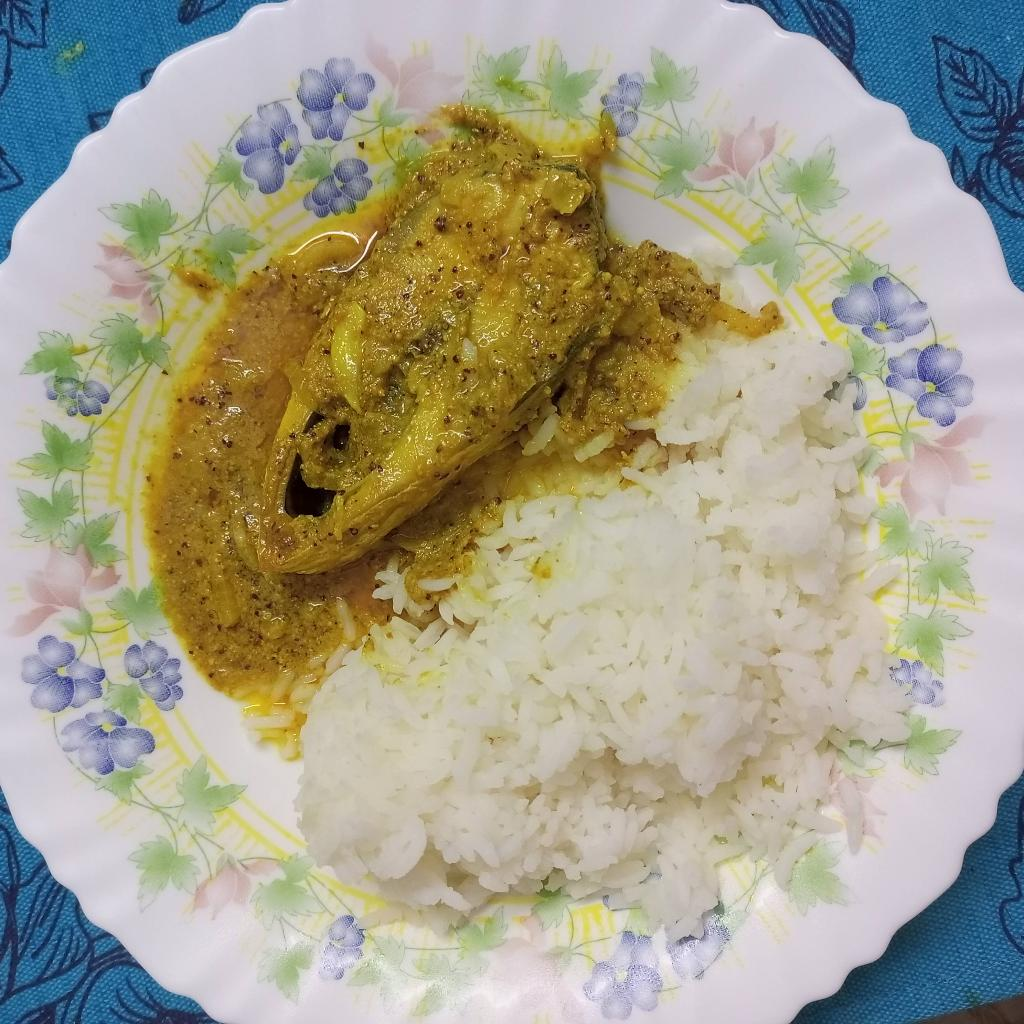fish: (251, 105, 630, 575)
rice: (297, 334, 911, 938)
